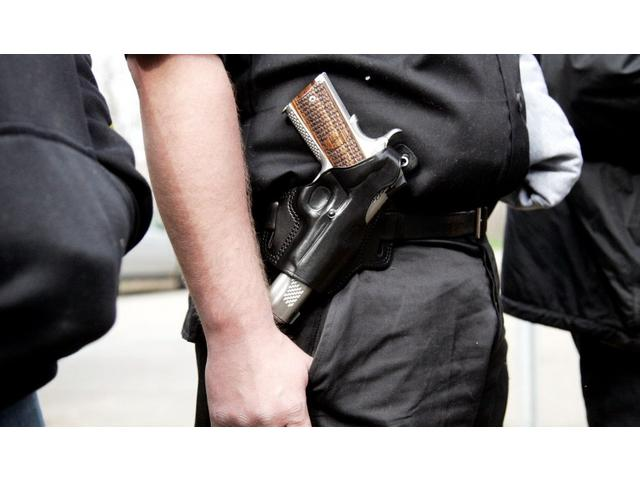pistol: (259, 68, 408, 327)
